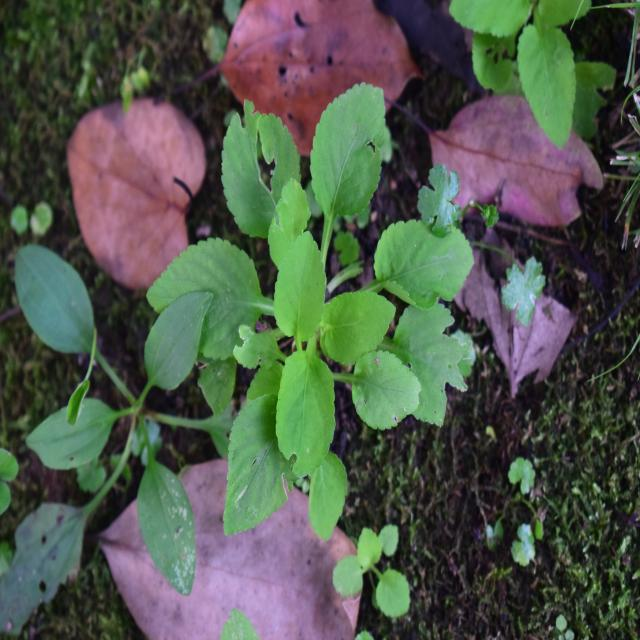Viola: (208, 93, 450, 498)
